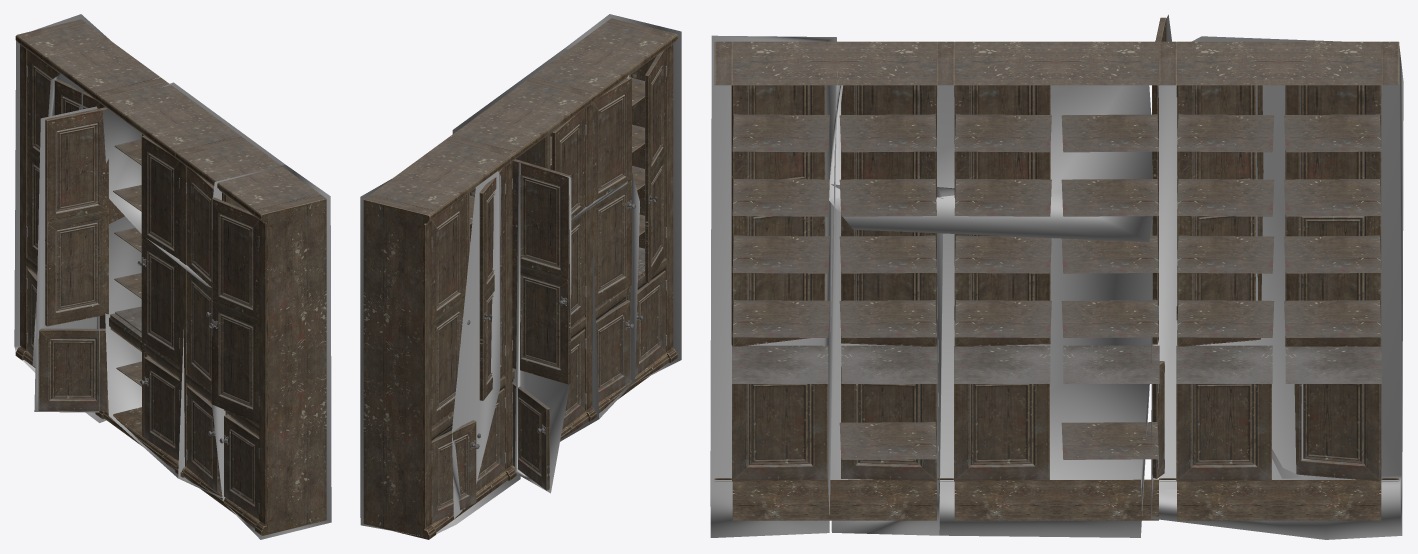
File: SM_Cupboard.gltf
3 views of the same model, side by side, from view 1: azimuth 30°, elevation 25°; view 2: azimuth 150°, elevation 25°; view 3: azimuth 270°, elevation 25° (orthographic). The views are drawn at different scales.
Visible parts, largest first — view 1: SM_Cupboard_LOD0, SM_Cupboard_ConvexHulls; view 2: SM_Cupboard_LOD0, SM_Cupboard_ConvexHulls; view 3: SM_Cupboard_LOD0, SM_Cupboard_ConvexHulls.
Boxes of the visible parts, bbox=[...] form: SM_Cupboard_LOD0: bbox=[15, 19, 326, 535]; SM_Cupboard_ConvexHulls: bbox=[14, 14, 331, 539]; SM_Cupboard_LOD0: bbox=[363, 18, 677, 539]; SM_Cupboard_ConvexHulls: bbox=[360, 14, 681, 535]; SM_Cupboard_LOD0: bbox=[714, 17, 1399, 520]; SM_Cupboard_ConvexHulls: bbox=[710, 14, 1403, 539].
Size of what is drawn, in the model's own units: 1.69 by 4.21 by 5.78.
